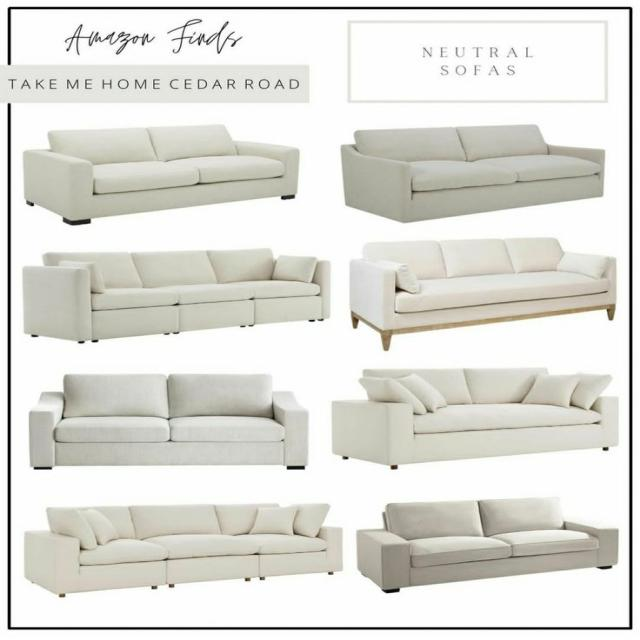obstacle: (24, 501, 342, 598), (348, 236, 616, 350), (22, 246, 330, 344), (331, 366, 618, 469), (23, 122, 299, 225), (28, 372, 309, 470), (340, 122, 605, 222), (356, 496, 618, 593)
